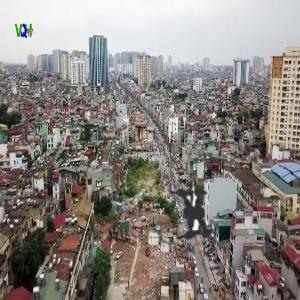drone: (109, 121, 284, 296)
